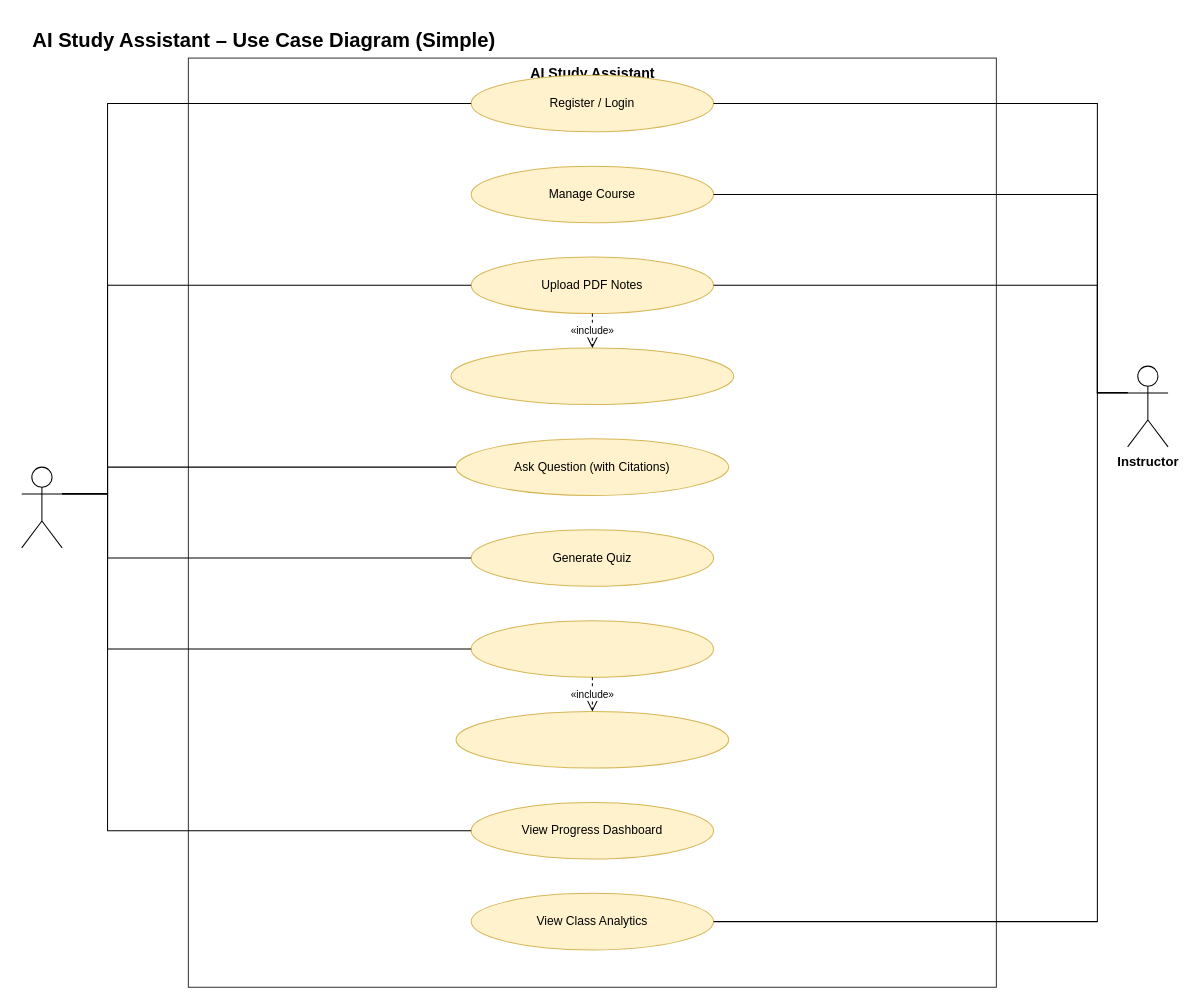
This 1196x1005 diagram has some shape labels left out. The centre of each missing label's shape, as x and y in pixels:
"Attempt Quiz" goes at point (592, 648).
"Evaluate & Update Mastery" goes at point (592, 739).
"Process Document (Chunk & Embed)" goes at point (592, 376).
"Student" goes at point (41, 507).
